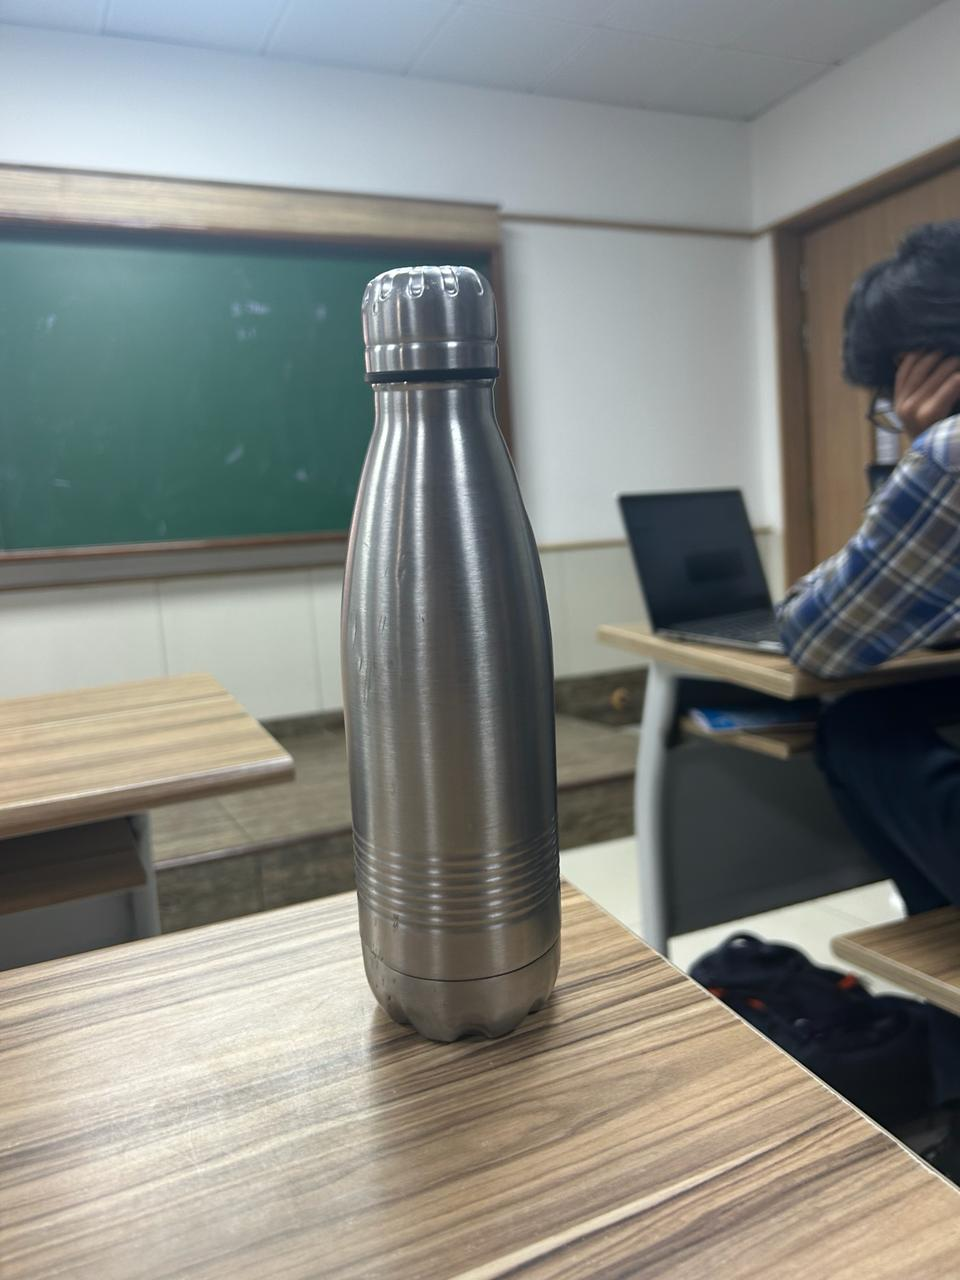bottle: (325, 257, 589, 1056)
